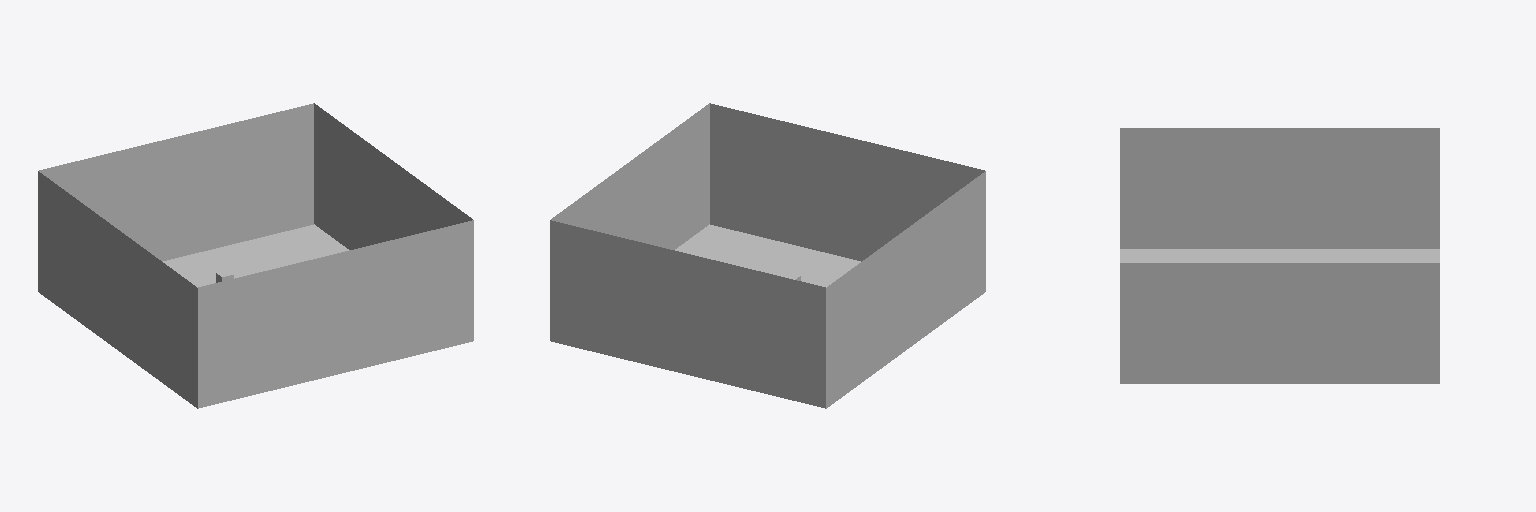
The model's file is Level_joined.obj.
3 views of the same model, side by side, from view 1: azimuth 30°, elevation 25°; view 2: azimuth 150°, elevation 25°; view 3: azimuth 270°, elevation 25° (orthographic).
Parts seen in each view (by area): view 1: Plane; view 2: Plane; view 3: Plane.
Part boxes in pixels (bbox=[...]): Plane: bbox=[38, 103, 473, 408]; Plane: bbox=[550, 103, 985, 408]; Plane: bbox=[1120, 128, 1439, 383].
Size of the model in its own units: 7.37 by 3.09 by 7.37.